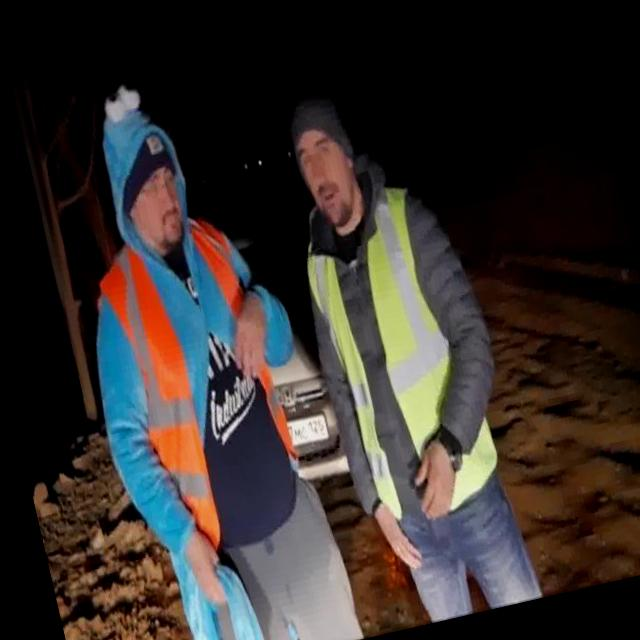vest: (88, 209, 316, 564), (287, 172, 508, 534)
